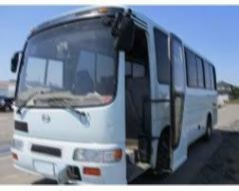bus: (8, 8, 219, 182)
